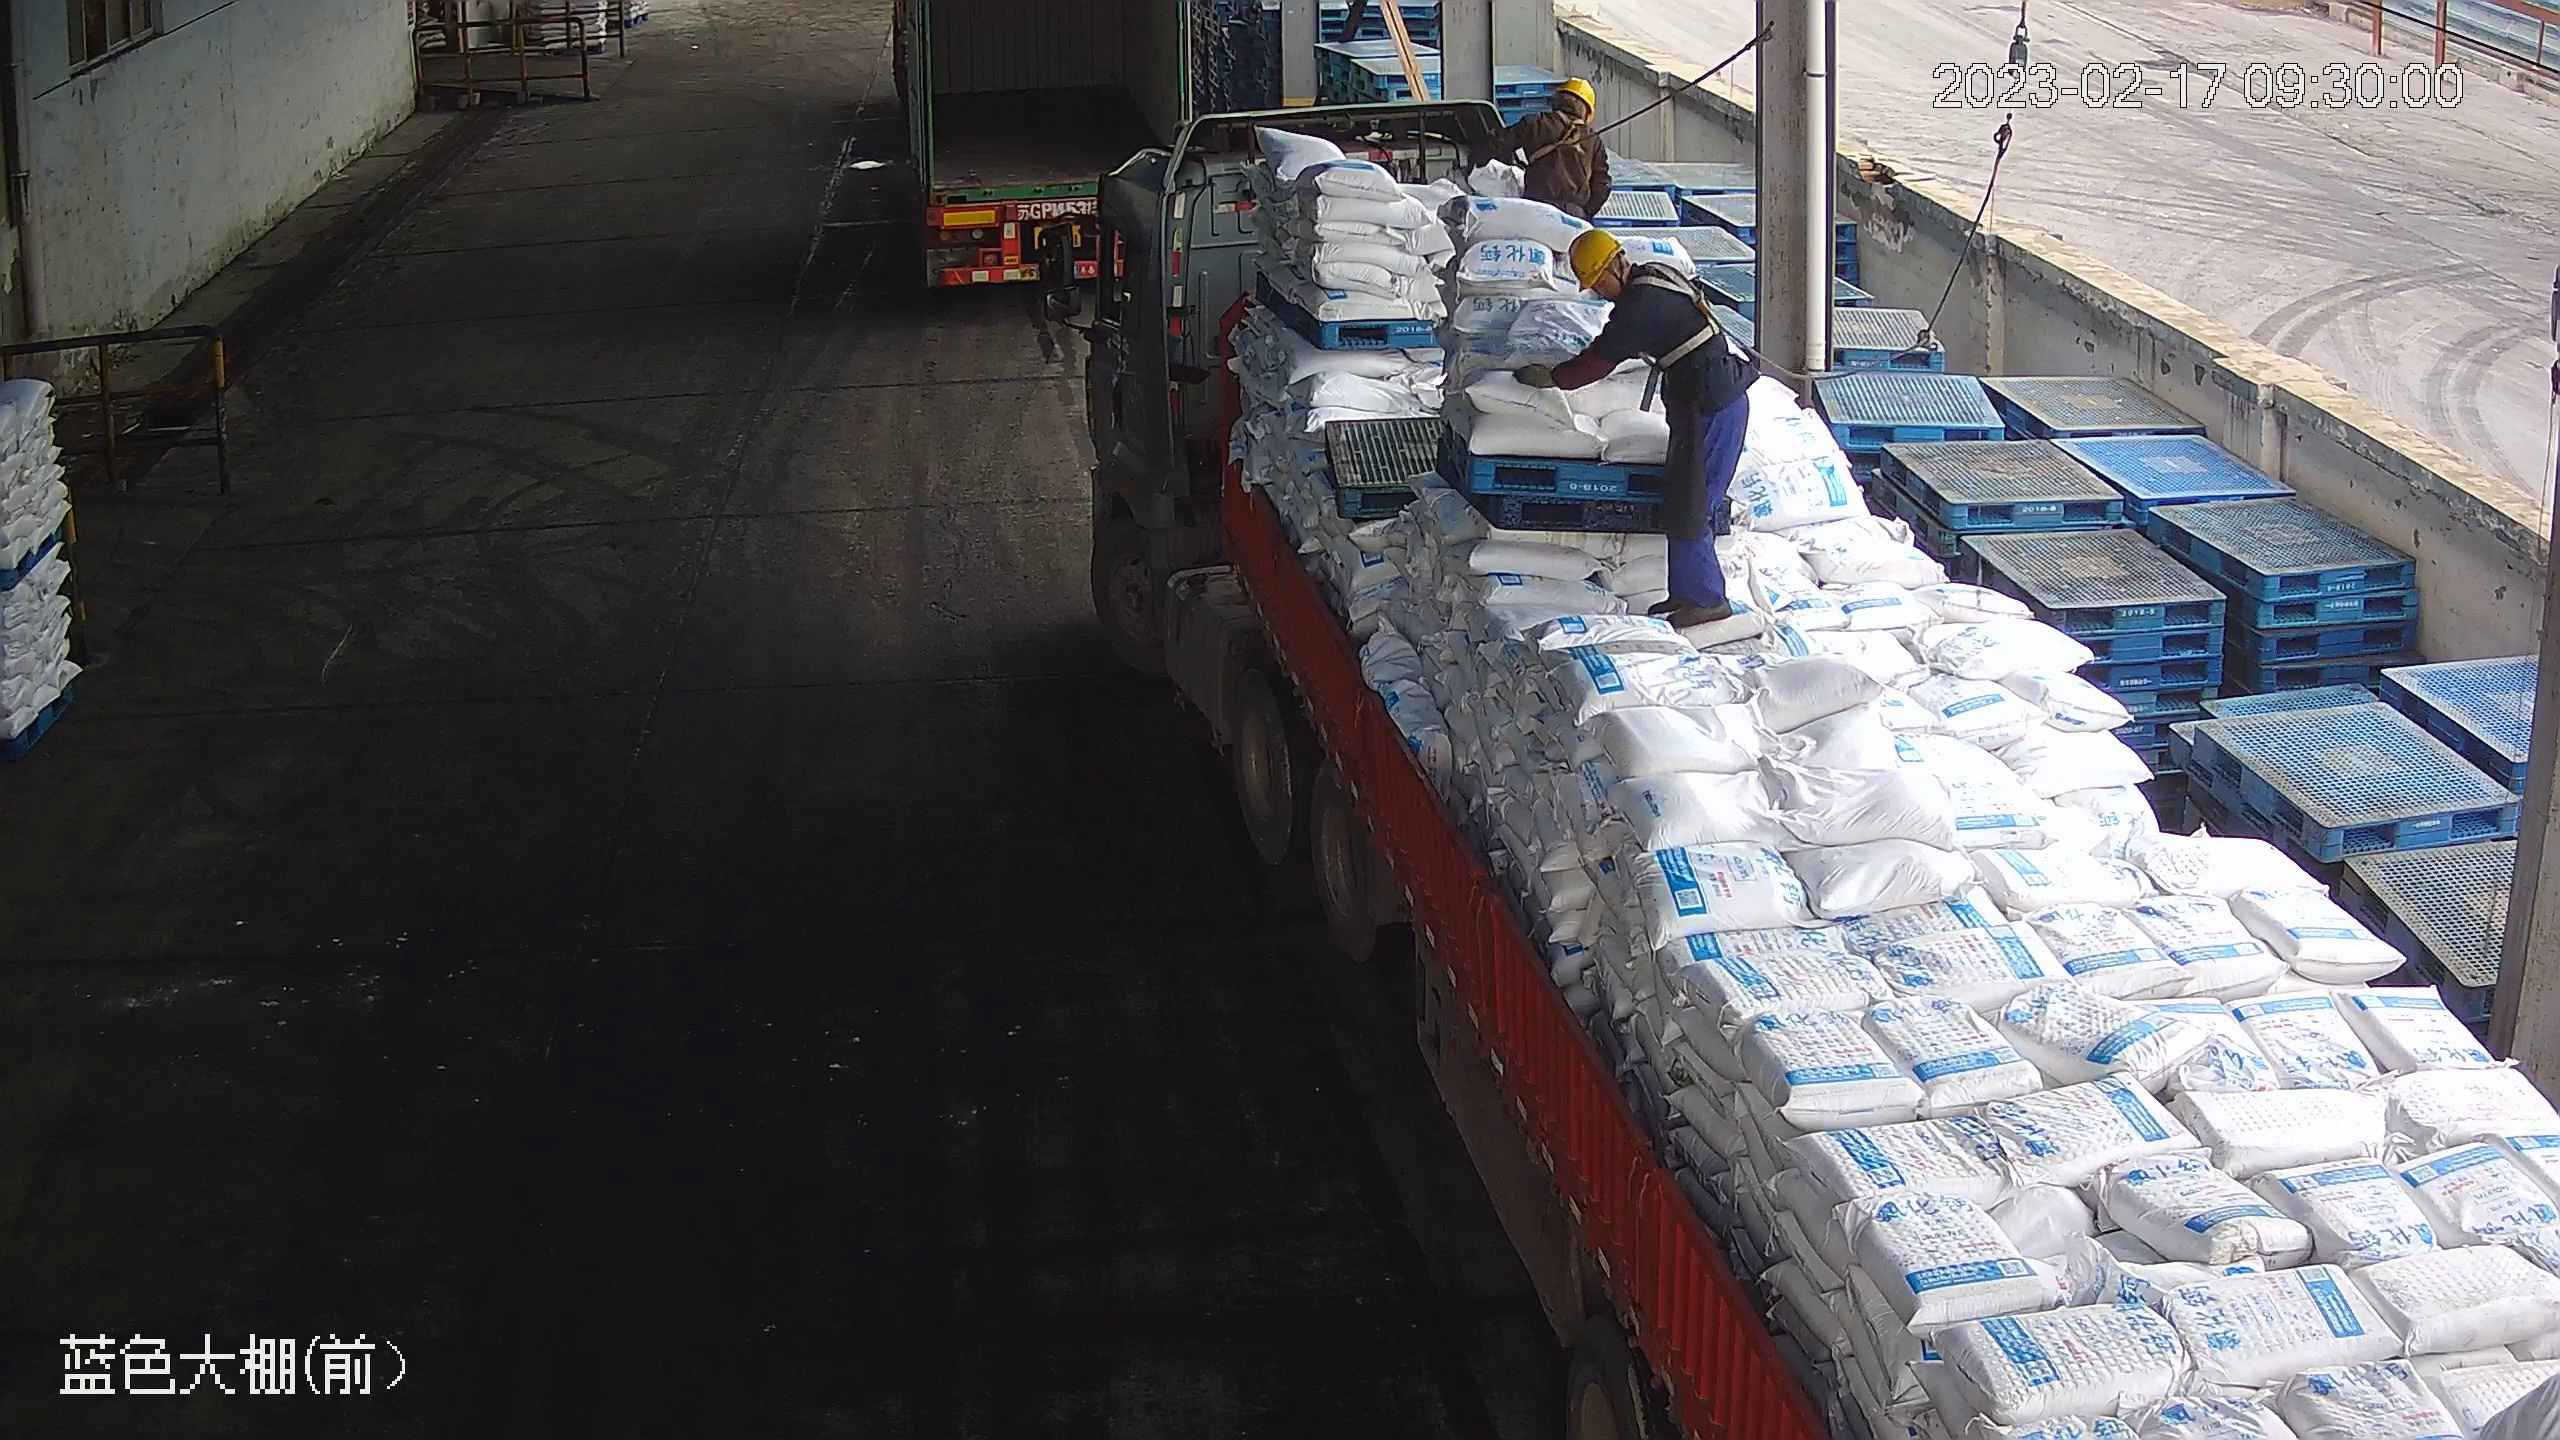belt: (1637, 262, 1727, 366), (1529, 106, 1617, 171)
head: (1569, 232, 1701, 369), (1496, 72, 1606, 188)
helmet: (1569, 232, 1625, 296), (1551, 76, 1600, 120)
people: (1512, 230, 1751, 630)
truck: (1029, 91, 2560, 1440), (886, 1, 1201, 308)
